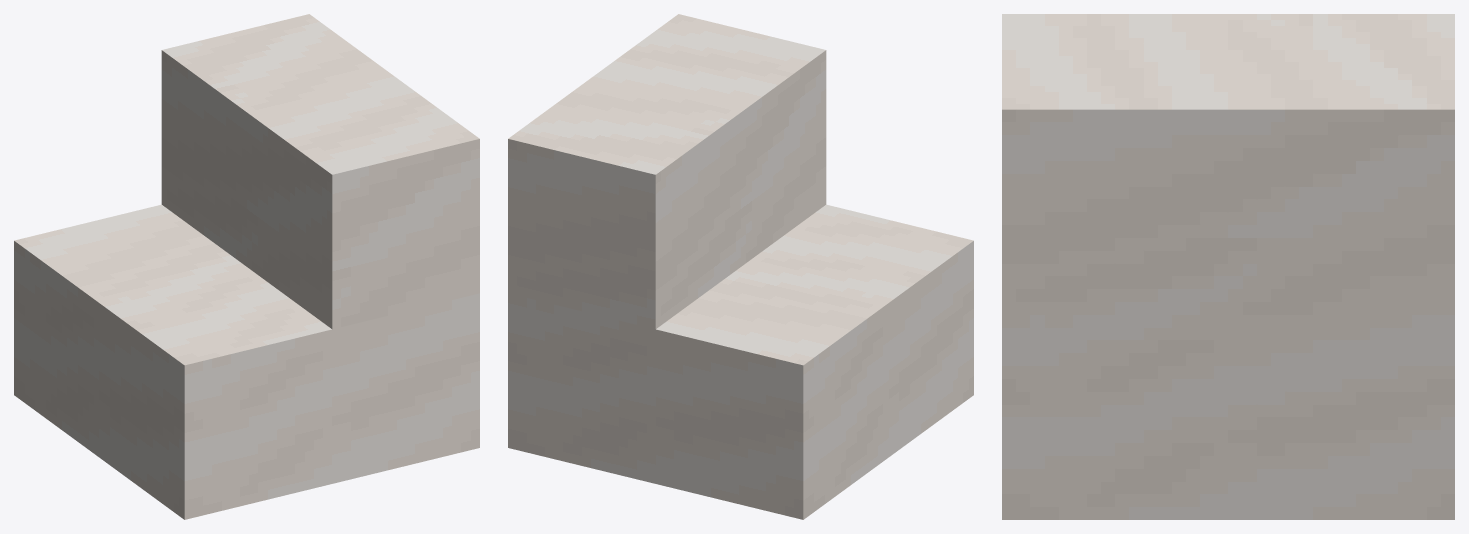
File: block_smooth_quartz_stairs.gltf
3 renders of one model, left to right at view 1: azimuth 30°, elevation 25°; view 2: azimuth 150°, elevation 25°; view 3: azimuth 270°, elevation 25°, orthographic. The views are drawn at different scales.
Parts seen in each view (by area): view 1: cube (×2); view 2: cube (×2); view 3: cube (×2).
Boxes of the visible parts, x1=… form: cube (×2): x1=14, y1=14, x2=479, y2=519; cube (×2): x1=508, y1=14, x2=973, y2=519; cube (×2): x1=1002, y1=14, x2=1454, y2=519.
Bounding box in the file's own units: 1 × 1 × 1.
1 material, 1 textured.
